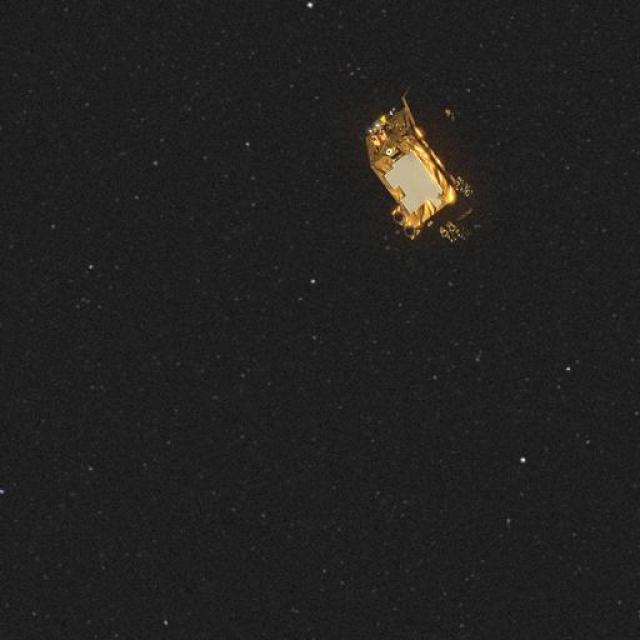lisa_pathfinder: (335, 42, 541, 287)
